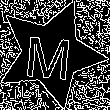M_N: (25, 26, 77, 81)
